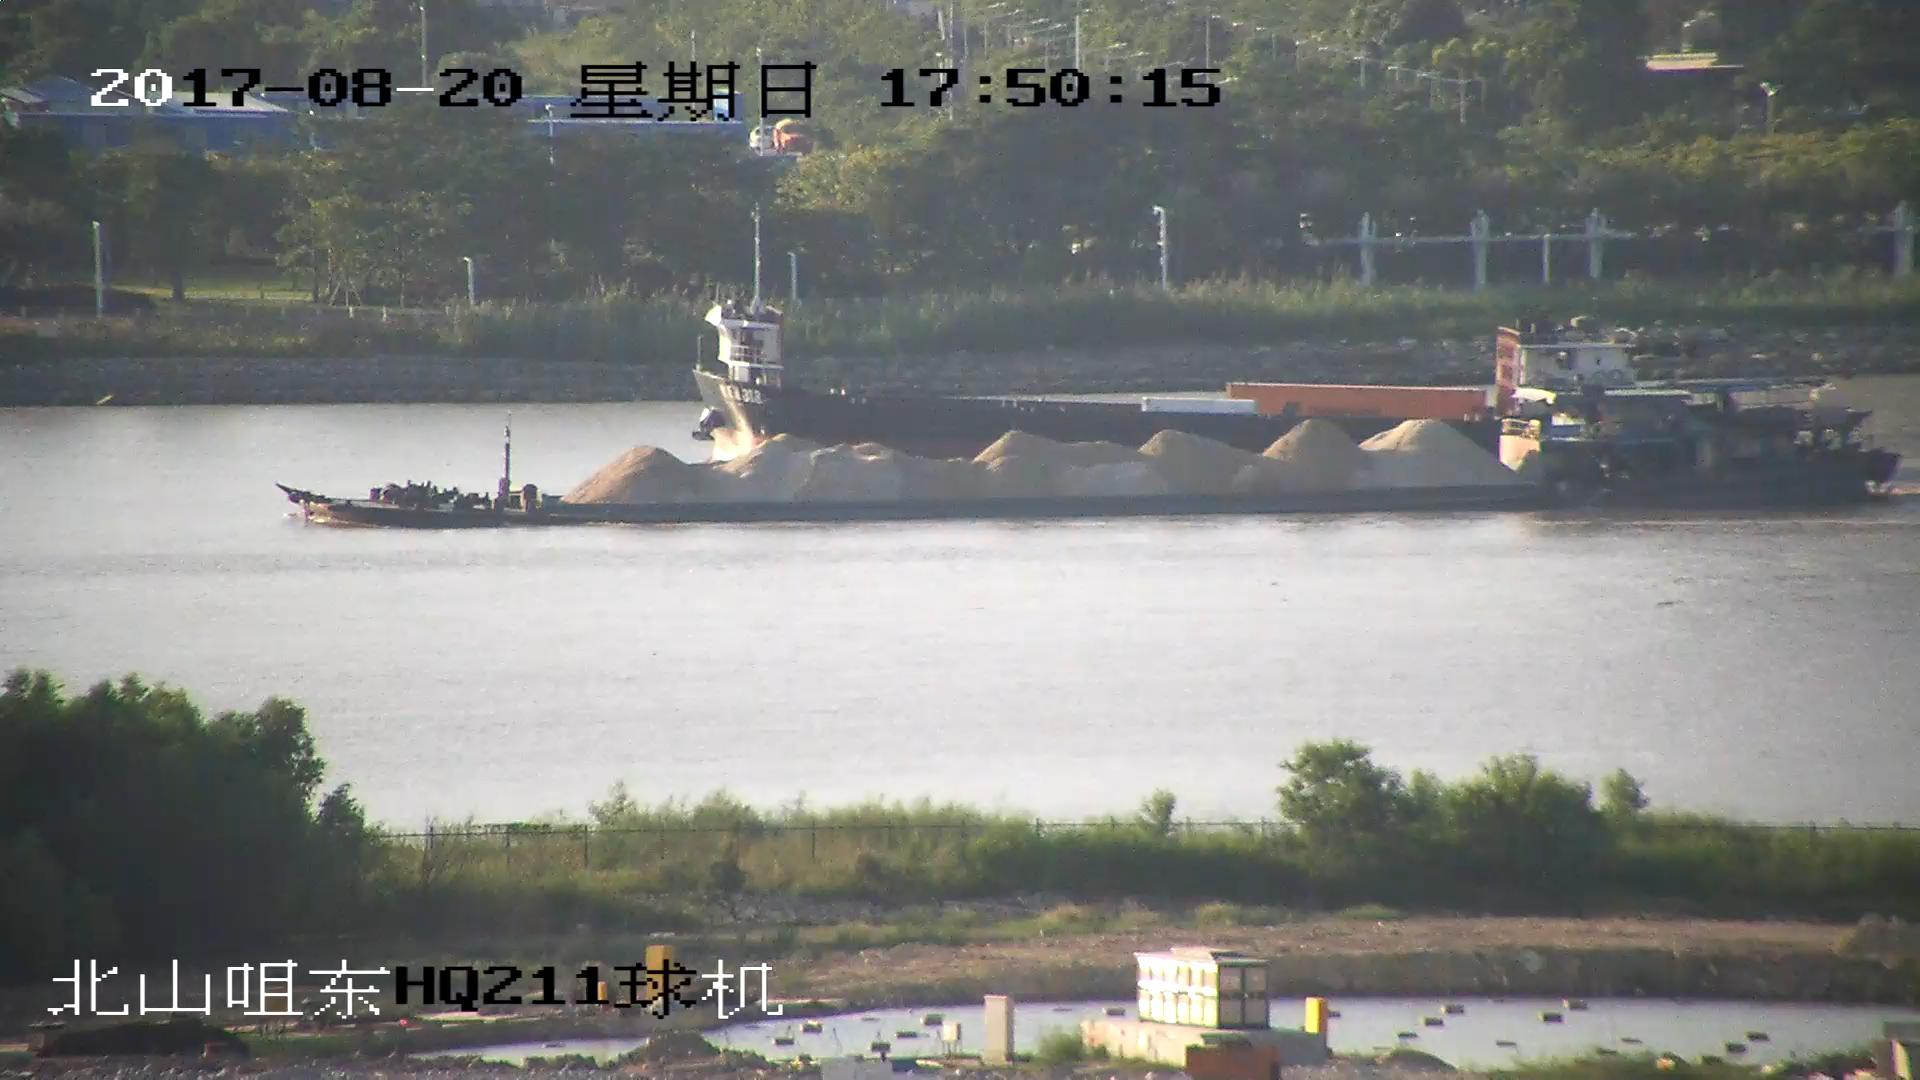Ship: (692, 208, 1665, 455), (290, 404, 1902, 527)
